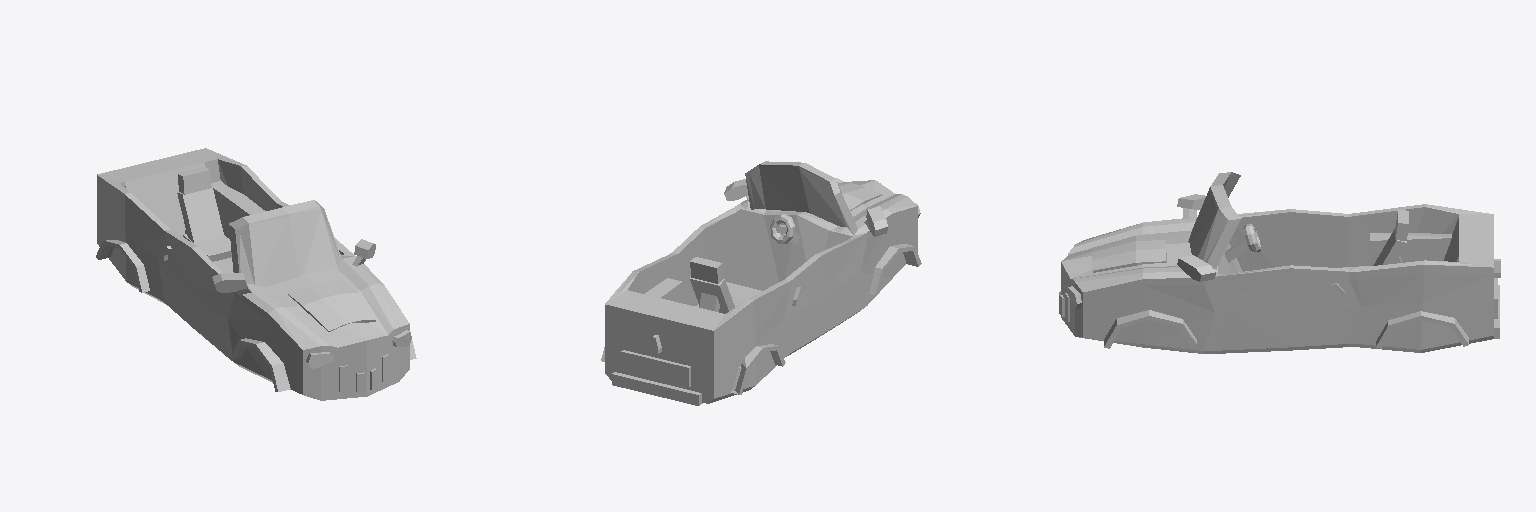
Rendered from Car_4.obj.
3 renders of one model, left to right at view 1: azimuth 30°, elevation 25°; view 2: azimuth 150°, elevation 25°; view 3: azimuth 270°, elevation 25°, orthographic.
Parts seen in each view (by area): view 1: Car_4; view 2: Car_4; view 3: Car_4.
Boxes of the visible parts, <box> form: Car_4: <box>96,148,416,400</box>; Car_4: <box>601,161,921,405</box>; Car_4: <box>1059,172,1500,353</box>.
Size of the model in its own units: 195 by 161 by 461.